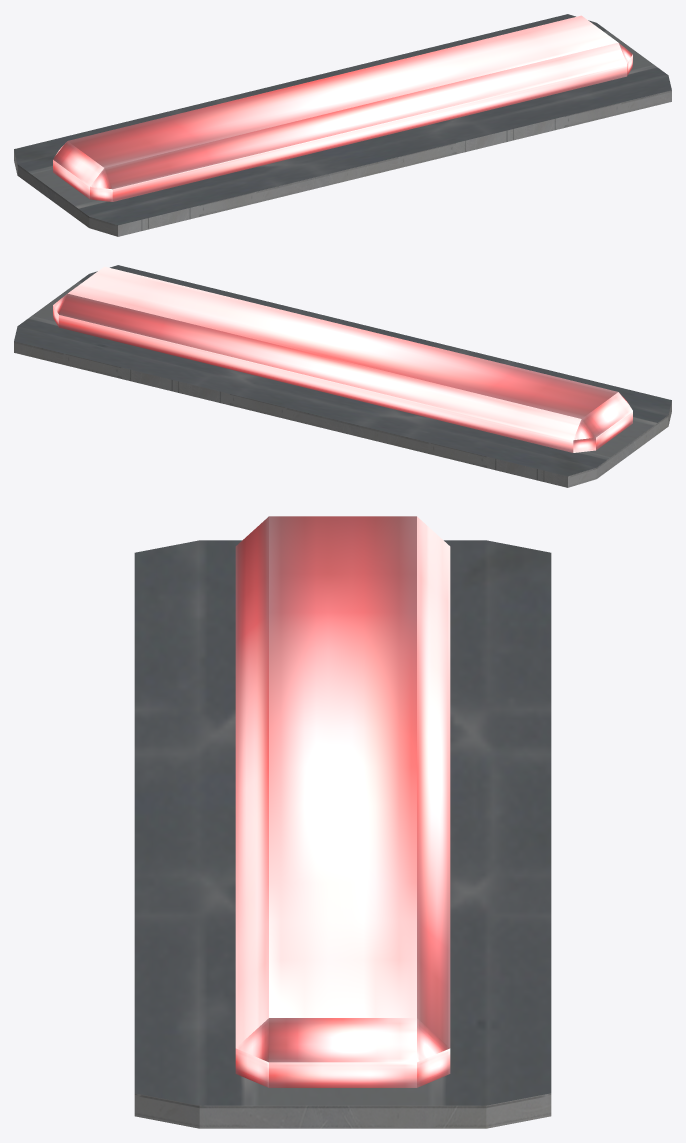
The model's file is SM_Light1vsb.fbx.
The picture shows the model from 3 angles, top to bottom: view 1: azimuth 30°, elevation 25°; view 2: azimuth 150°, elevation 25°; view 3: azimuth 270°, elevation 25°; orthographic projection. The views are drawn at different scales.
Visible parts, largest first — view 1: SM_Light1vsb_LOD0; view 2: SM_Light1vsb_LOD0; view 3: SM_Light1vsb_LOD0.
Boxes of the visible parts, <box> form: SM_Light1vsb_LOD0: <box>14,14,671,236</box>; SM_Light1vsb_LOD0: <box>14,265,671,487</box>; SM_Light1vsb_LOD0: <box>134,516,551,1128</box>.
Bounding box in the file's own units: 20 × 6.23 × 1.3.
3 materials, 3 textured.
